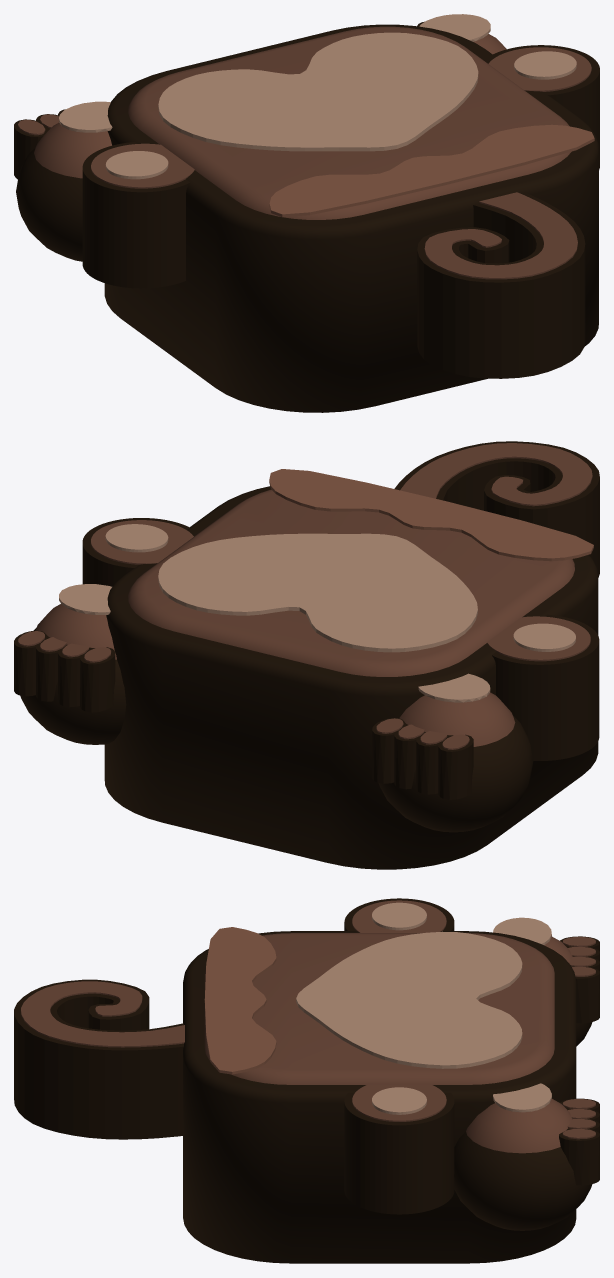
File: body_macaco.fbx
3 views of the same model, one above another, from view 1: azimuth 30°, elevation 25°; view 2: azimuth 150°, elevation 25°; view 3: azimuth 270°, elevation 25° (orthographic). The views are drawn at different scales.
Visible parts, largest first — view 1: body_macaco_corpo, body_macaco_mao_esq, body_macaco_mao; view 2: body_macaco_corpo, body_macaco_mao_esq, body_macaco_mao; view 3: body_macaco_corpo, body_macaco_mao, body_macaco_mao_esq.
Boxes of the visible parts, x1,y1,x2,y2 form: body_macaco_corpo: (82,24,599,412); body_macaco_mao_esq: (14,101,112,261); body_macaco_mao: (417,14,506,54); body_macaco_corpo: (82,441,599,869); body_macaco_mao_esq: (372,673,533,832); body_macaco_mao: (14,584,126,744); body_macaco_corpo: (14,898,576,1263); body_macaco_mao: (454,1083,599,1230); body_macaco_mao_esq: (493,917,599,1046).
Bounding box in the file's own units: 5.46 × 2.04 × 5.96.
1 material, 1 textured.
